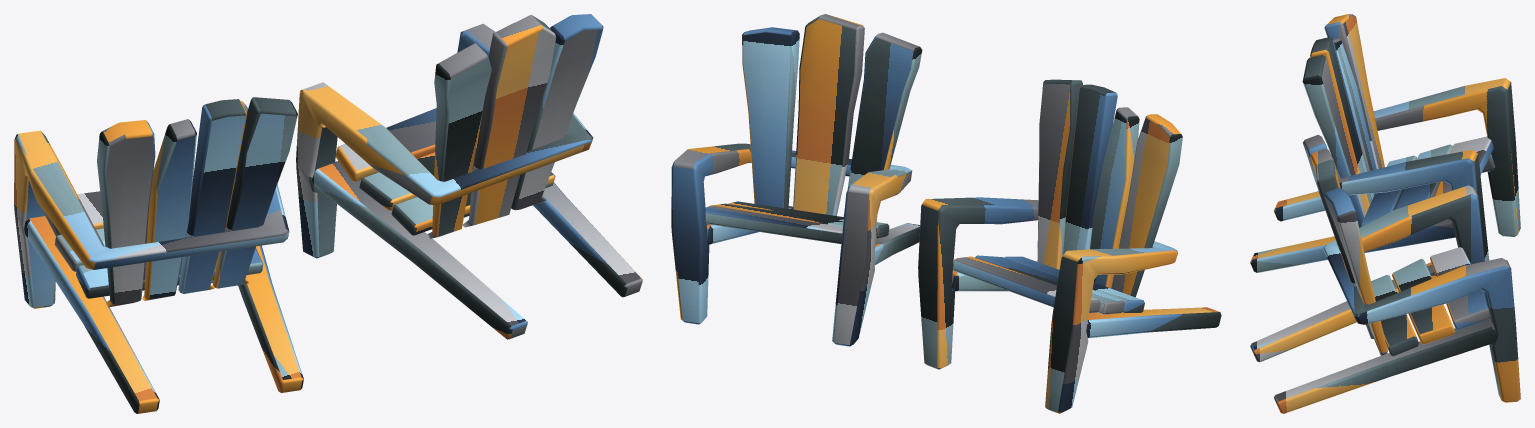
File: Prop_BeachChairWood.glb
The picture shows the model from 3 angles, left to right: view 1: azimuth 30°, elevation 25°; view 2: azimuth 150°, elevation 25°; view 3: azimuth 270°, elevation 25°; orthographic projection. The views are drawn at different scales.
Visible parts, largest first — view 1: Prop_BeachChairWood; view 2: Prop_BeachChairWood; view 3: Prop_BeachChairWood.
Part boxes in pixels (x1,y1,x2,y2): Prop_BeachChairWood: (14,14,642,413); Prop_BeachChairWood: (671,14,1221,413); Prop_BeachChairWood: (1250,14,1520,413).
Bounding box in the file's own units: 1.56 × 0.8159 × 0.8848.
1 material, 1 textured.
